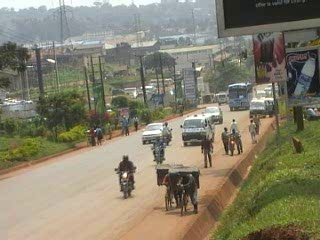Car: (139, 120, 174, 148), (201, 104, 225, 123)
Motorcycle: (112, 158, 138, 199), (149, 139, 167, 166), (223, 133, 238, 156), (159, 125, 173, 147)
